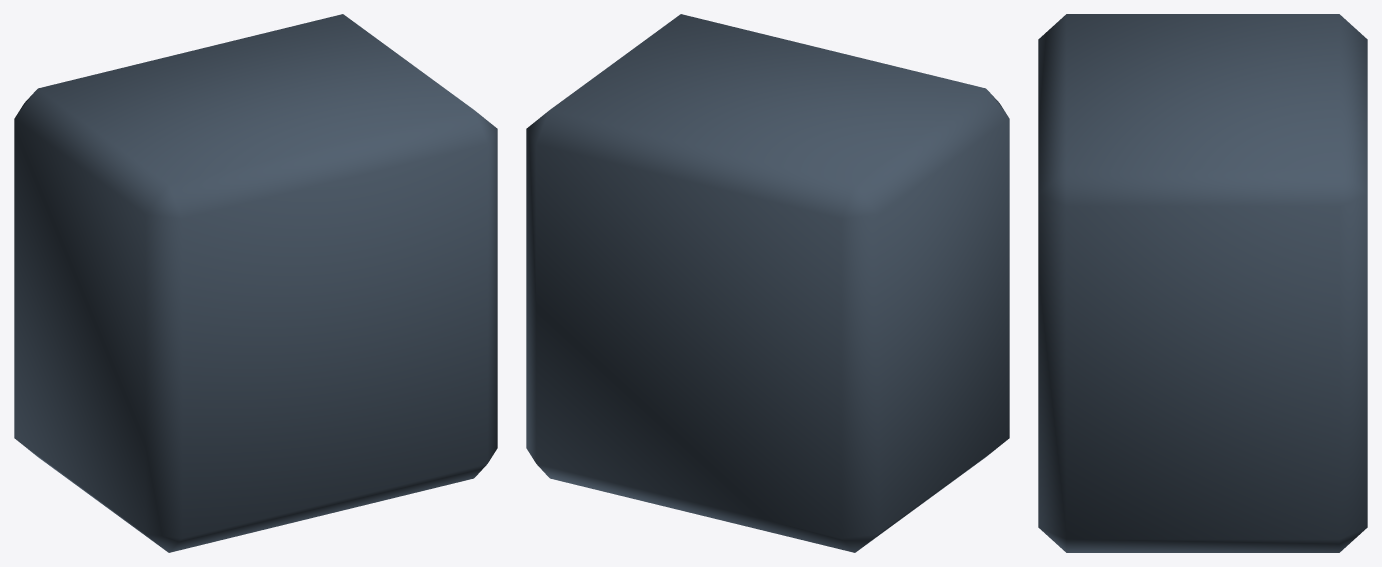
Rendered from anchor_collar.glb.
3 views of the same model, side by side, from view 1: azimuth 30°, elevation 25°; view 2: azimuth 150°, elevation 25°; view 3: azimuth 270°, elevation 25° (orthographic). The views are drawn at different scales.
Parts seen in each view (by area): view 1: Block; view 2: Block; view 3: Block.
Part boxes in pixels (<box>): Block: <box>14,14,497,552</box>; Block: <box>526,14,1009,552</box>; Block: <box>1038,14,1367,552</box>.
Bounding box in the file's own units: 0.45 × 0.45 × 0.35.
